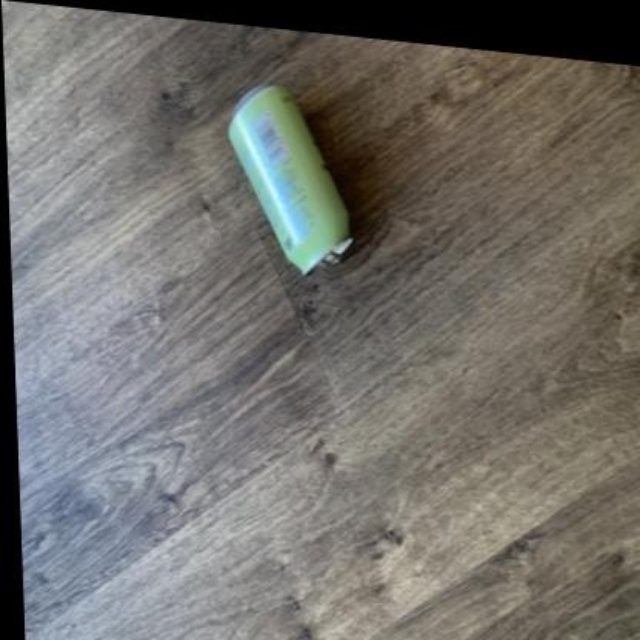trash: (228, 86, 351, 272)
